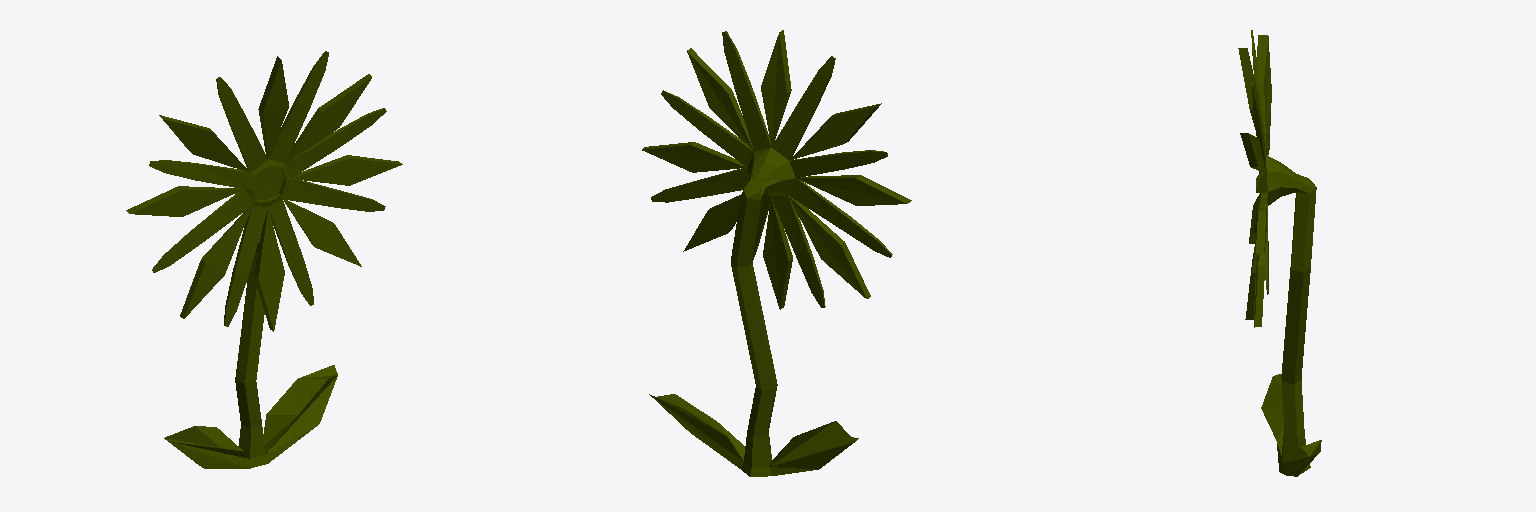
File: flower_model.obj
3 renders of one model, left to right at view 1: azimuth 30°, elevation 25°; view 2: azimuth 150°, elevation 25°; view 3: azimuth 270°, elevation 25°, orthographic.
Visible parts, largest first — view 1: flower; view 2: flower; view 3: flower.
Boxes of the visible parts, box(x1,y1,x2,y2) form: flower: box(126, 51, 402, 468); flower: box(642, 30, 911, 476); flower: box(1238, 30, 1321, 476).
Bounding box in the file's own units: 12.09 × 18.02 × 3.23.